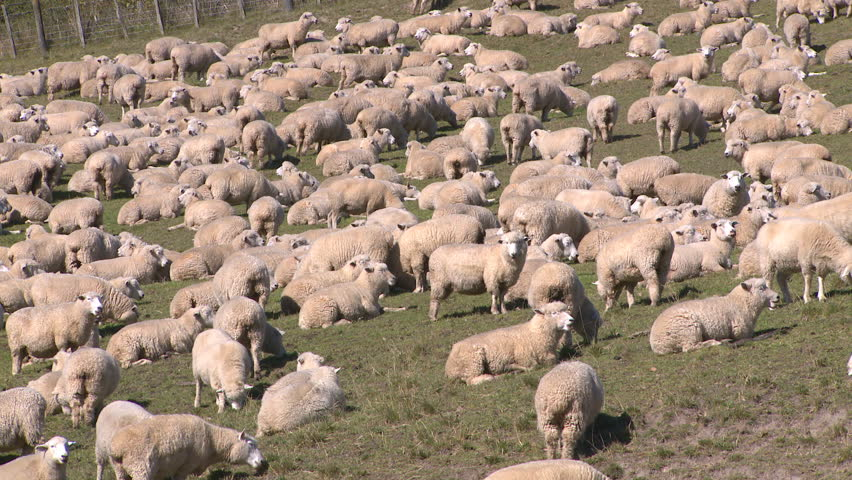sheep: (647, 273, 784, 362), (100, 411, 274, 480), (445, 300, 578, 385), (425, 228, 531, 323), (9, 288, 104, 378), (295, 256, 406, 332), (591, 222, 678, 308), (191, 325, 257, 417), (53, 347, 123, 430), (74, 242, 173, 293), (670, 215, 742, 283), (4, 430, 81, 480), (649, 40, 724, 90), (256, 8, 320, 61), (723, 138, 802, 180), (425, 168, 502, 208), (313, 126, 397, 162), (526, 127, 596, 163), (335, 16, 402, 50), (583, 1, 650, 32), (465, 41, 530, 72), (400, 55, 460, 84), (1, 112, 49, 145)
